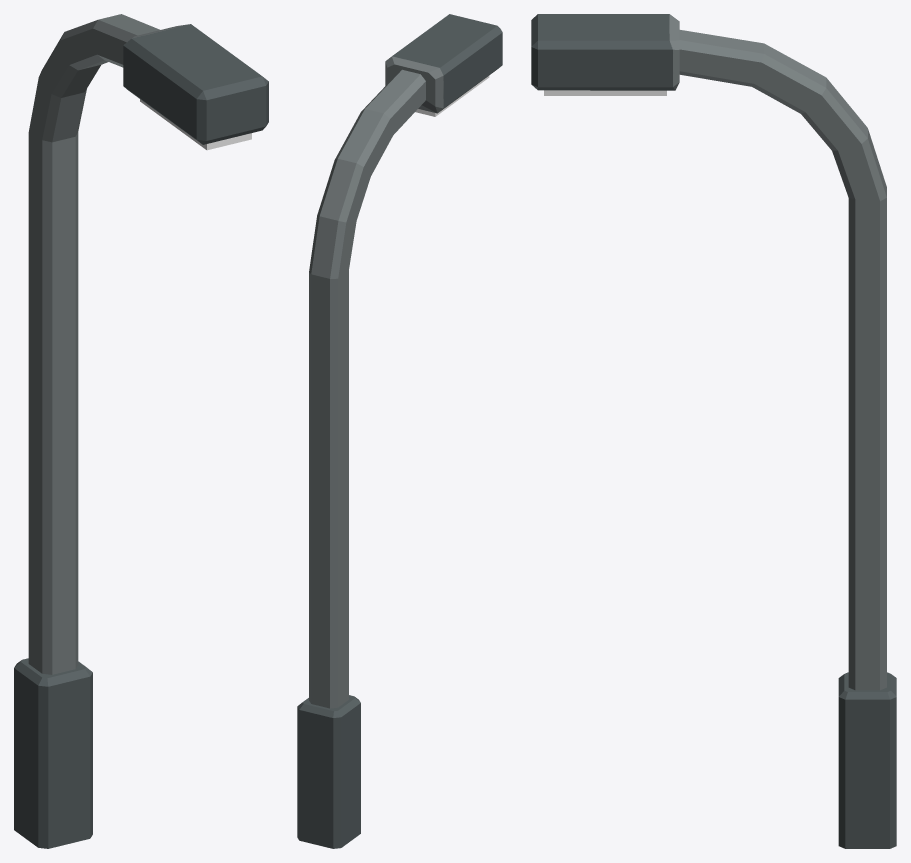
Rendered from Lampadaire.fbx.
3 views of the same model, side by side, from view 1: azimuth 30°, elevation 25°; view 2: azimuth 150°, elevation 25°; view 3: azimuth 270°, elevation 25° (orthographic). The views are drawn at different scales.
Visible parts, largest first — view 1: lampadaire; view 2: lampadaire; view 3: lampadaire.
Part boxes in pixels (x1=…): lampadaire: x1=14, y1=14, x2=268, y2=848; lampadaire: x1=297, y1=14, x2=502, y2=848; lampadaire: x1=531, y1=14, x2=896, y2=848.
Bounding box in the file's own units: 2.12 × 24.7 × 10.11.
